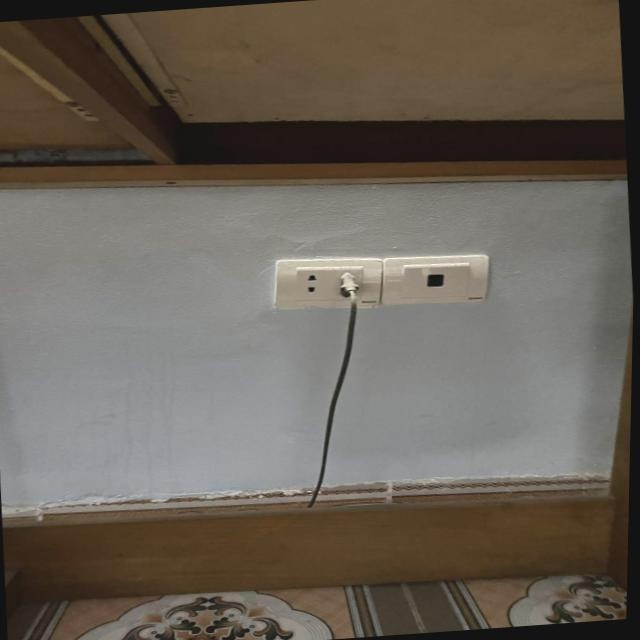outlet: (270, 251, 384, 313), (378, 249, 492, 308)
